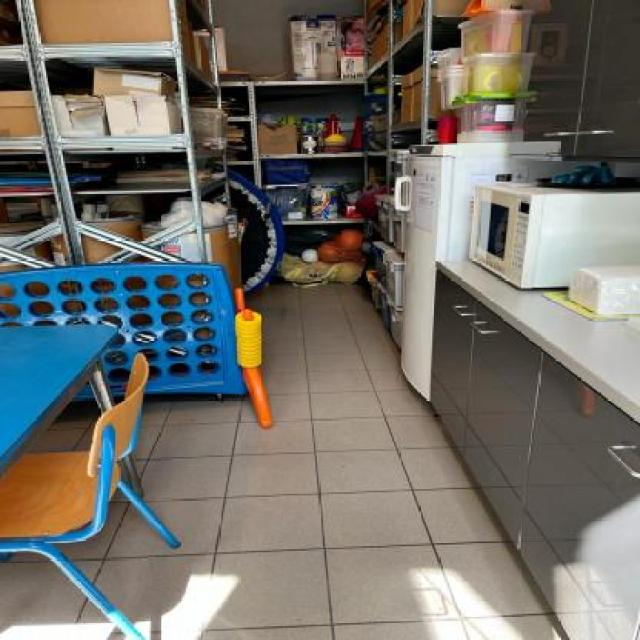floor: (65, 278, 577, 640)
